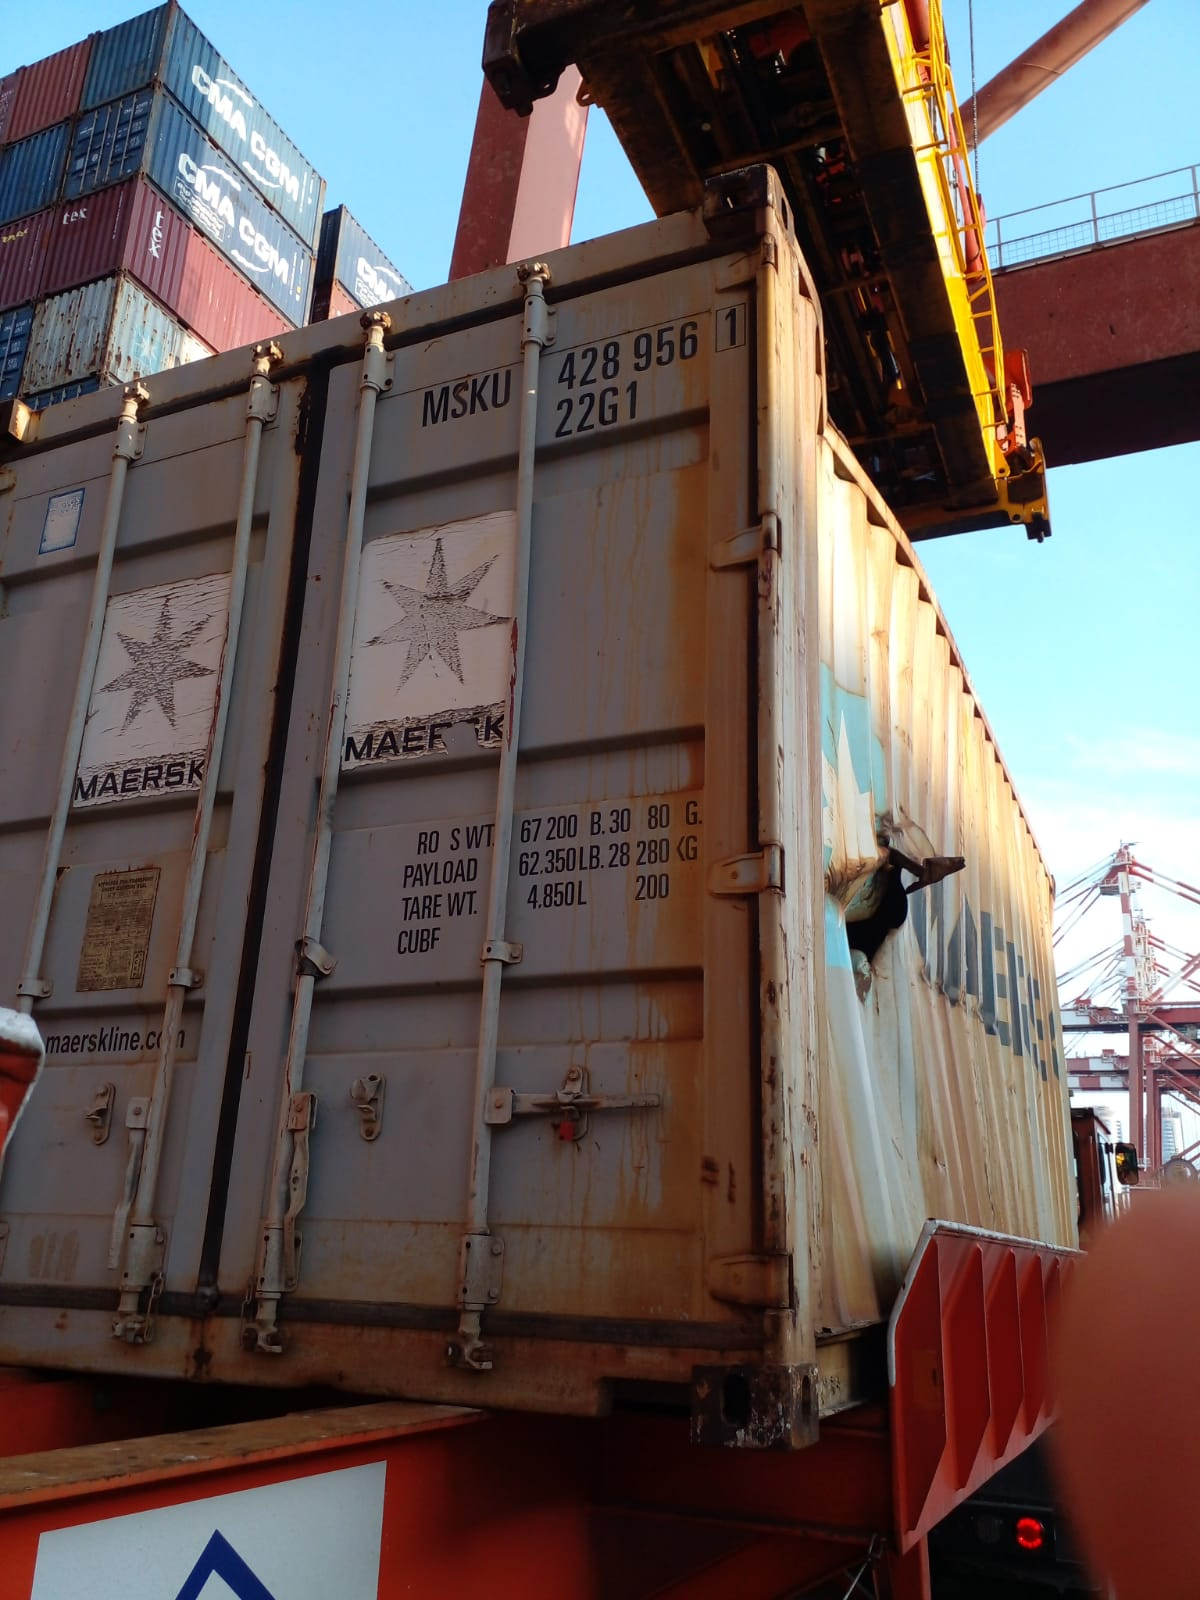severe: (811, 784, 972, 1002)
